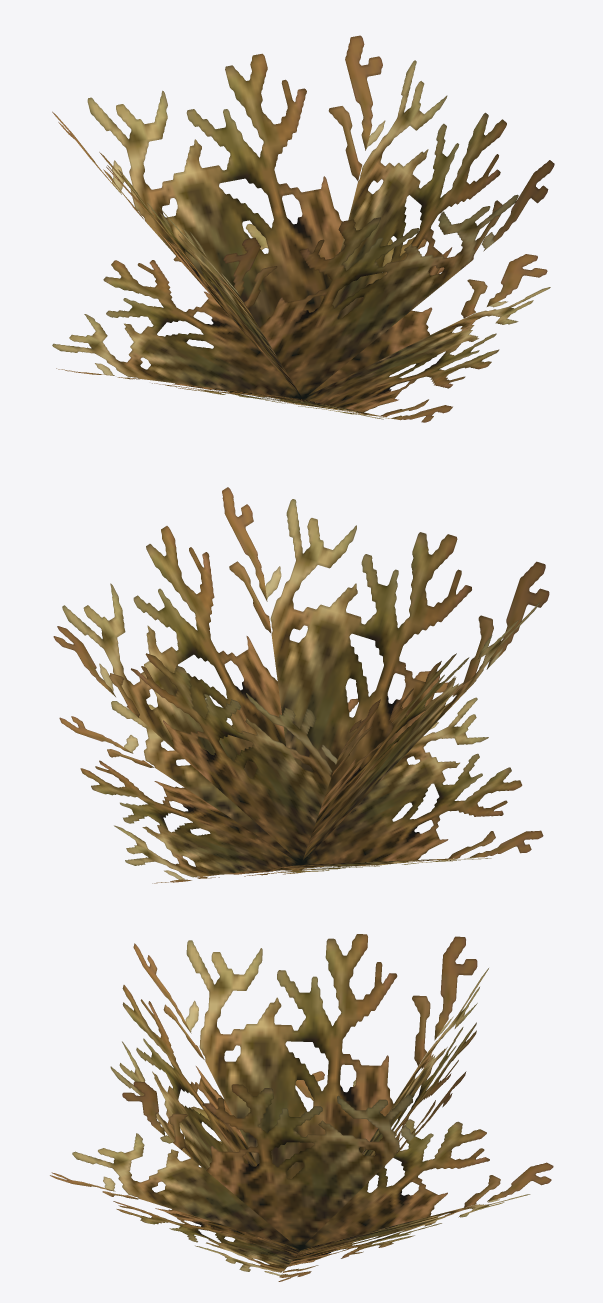
Rendered from naflbu21.dae.
3 views of the same model, one above another, from view 1: azimuth 30°, elevation 25°; view 2: azimuth 150°, elevation 25°; view 3: azimuth 270°, elevation 25° (orthographic). The views are drawn at different scales.
Visible parts, largest first — view 1: crown3; view 2: crown3; view 3: crown3.
Part boxes in pixels (bbox=[...]): crown3: bbox=[52, 35, 554, 422]; crown3: bbox=[53, 487, 549, 883]; crown3: bbox=[50, 934, 553, 1281].
Size of the model in its own units: 0.6533 by 0.6559 by 0.3146.
1 material, 1 textured.
